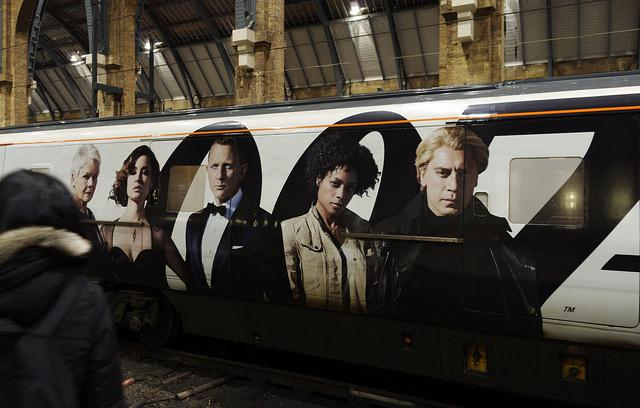Train: (0, 73, 639, 404)
